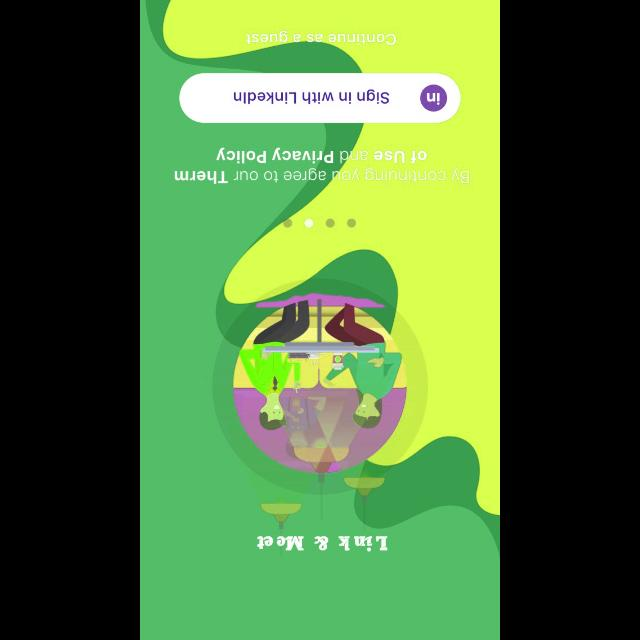backgroundimage: (140, 0, 498, 638)
image: (211, 278, 429, 534)
pageindicator: (282, 218, 356, 228)
text: (174, 148, 468, 185), (245, 30, 395, 46), (256, 536, 388, 552)
textbutton: (178, 73, 460, 123)
